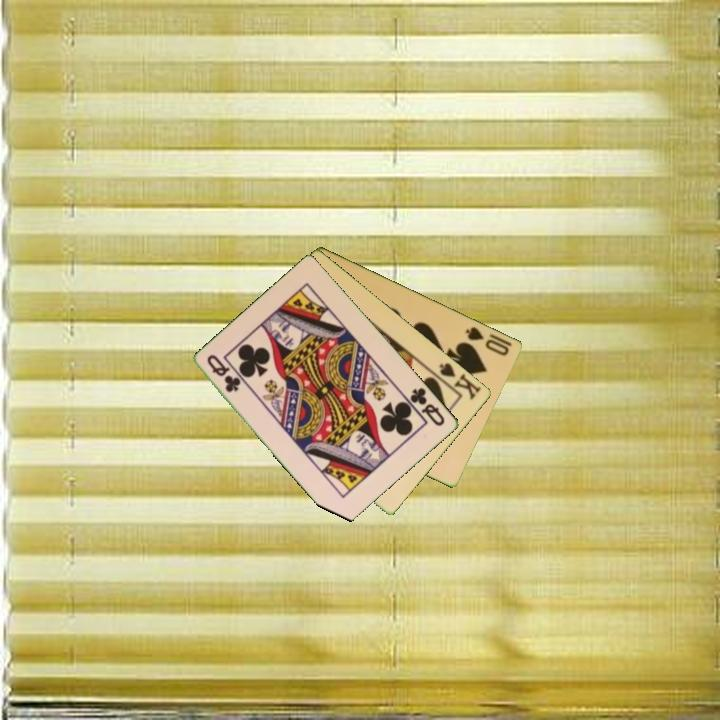10s: (462, 323, 512, 359)
Ks: (436, 359, 484, 403)
Qc: (406, 384, 448, 429), (203, 351, 244, 396)
